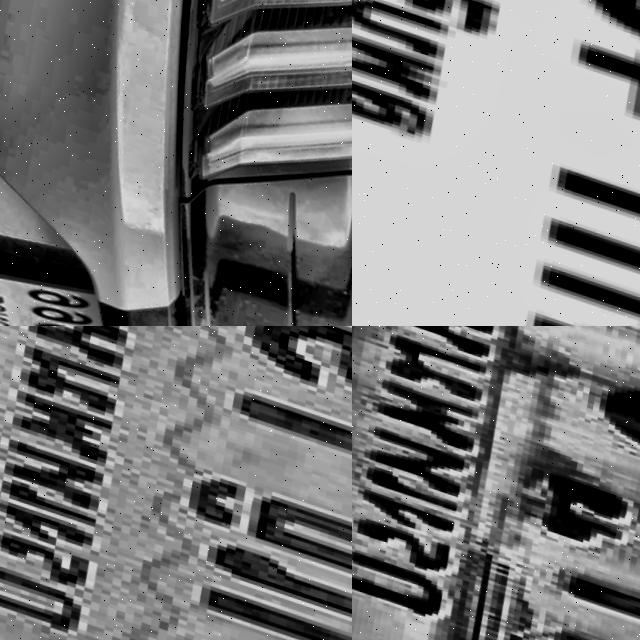license-plate: (0, 326, 352, 640), (352, 0, 640, 326), (352, 326, 640, 640), (0, 239, 145, 326)
